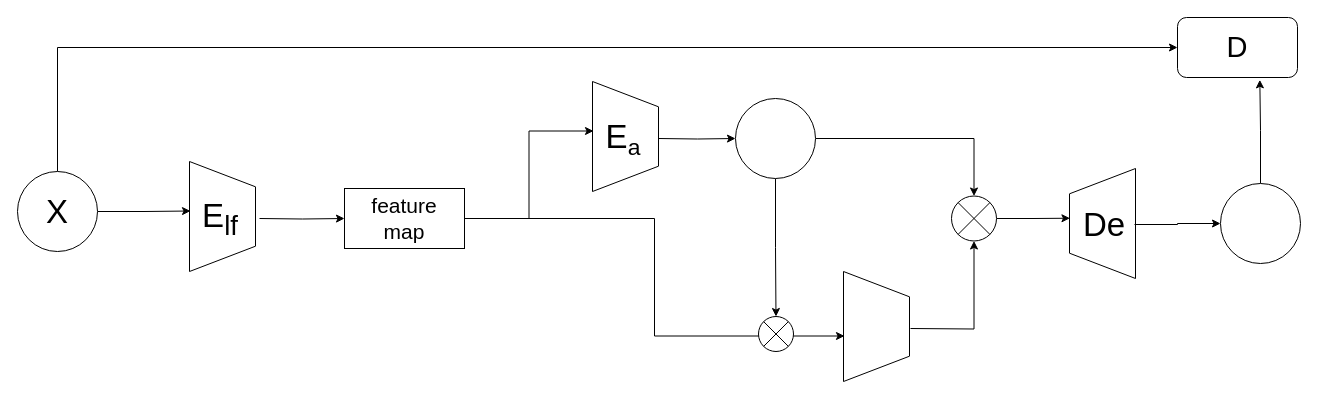
The diagram is 1318 pixels wide and 399 high, and some of its shapes have lost their labels. Here are the shapes that lost their labels. From the top down, the centre of each, then its label:
point (775, 138): Z a
point (1260, 223): X z
point (876, 326): E vae
